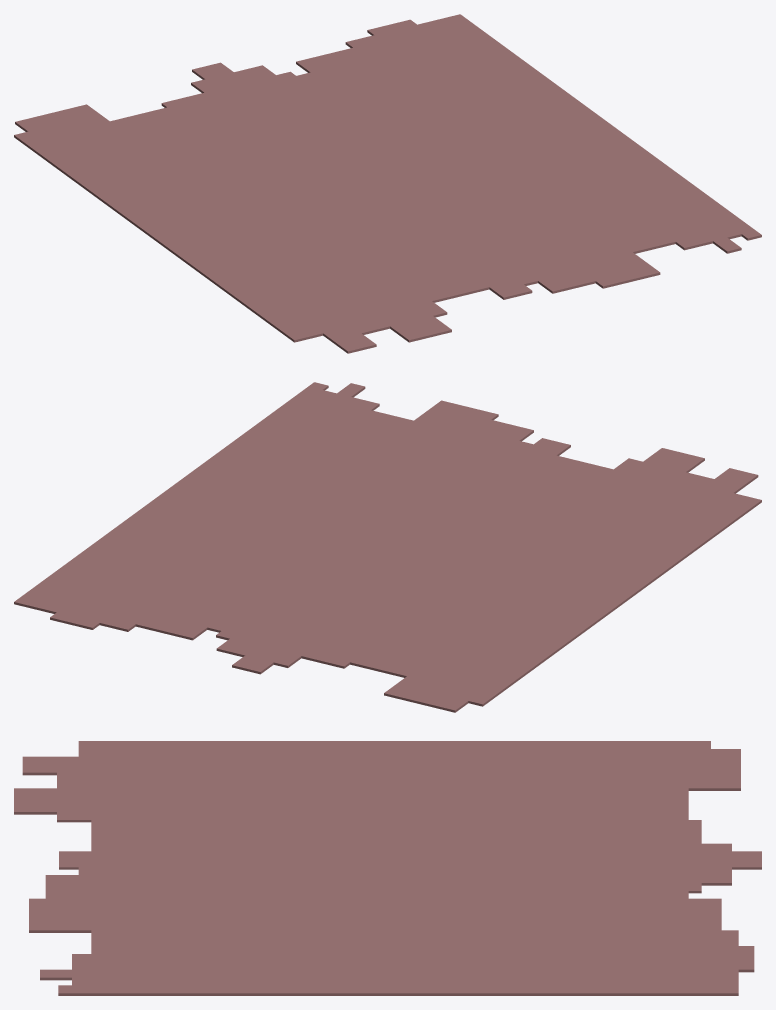
File: woodenfloor6_lp.fbx
The picture shows the model from 3 angles, top to bottom: view 1: azimuth 30°, elevation 25°; view 2: azimuth 150°, elevation 25°; view 3: azimuth 270°, elevation 25°; orthographic projection. The views are drawn at different scales.
Visible parts, largest first — view 1: woodenfloor6_LP; view 2: woodenfloor6_LP; view 3: woodenfloor6_LP.
Boxes of the visible parts, x1,y1,x2,y2 form: woodenfloor6_LP: [14, 14, 761, 353]; woodenfloor6_LP: [14, 382, 761, 712]; woodenfloor6_LP: [14, 741, 761, 995].
Bounding box in the file's own units: 1256 × 6.05 × 1574.
